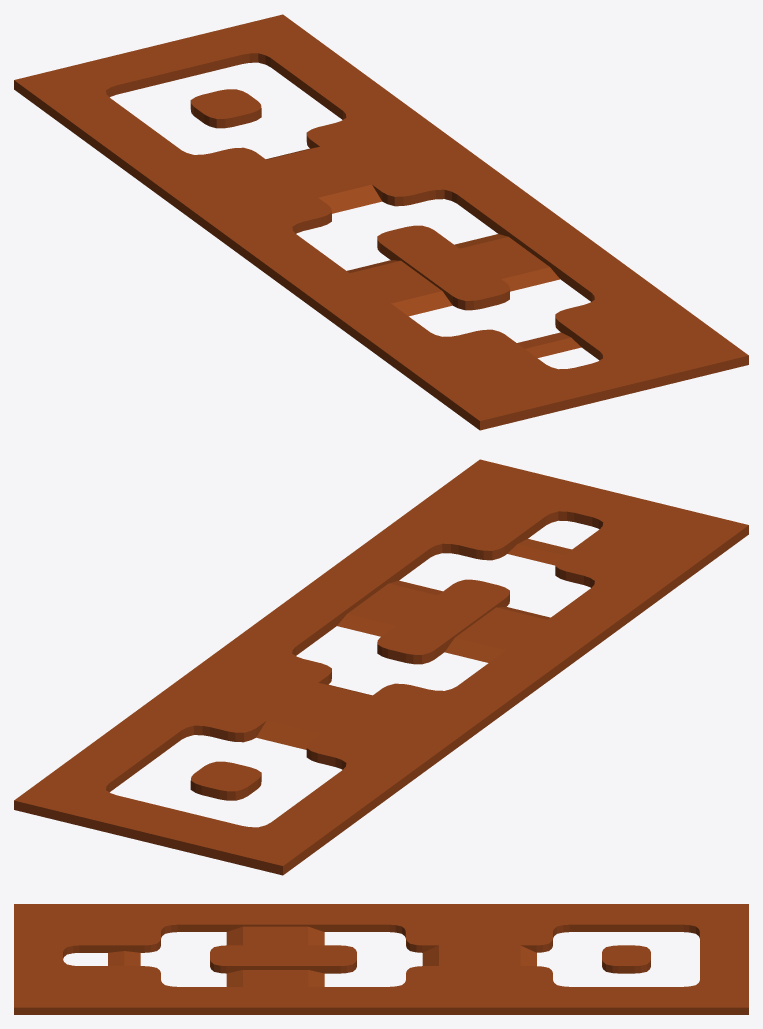
The model's file is Tutorial C Sand Area.fbx.
The picture shows the model from 3 angles, top to bottom: view 1: azimuth 30°, elevation 25°; view 2: azimuth 150°, elevation 25°; view 3: azimuth 270°, elevation 25°; orthographic projection. The views are drawn at different scales.
Parts seen in each view (by area): view 1: Flooring Type Corner Sand.002, Flooring Type Ramp Low.006; view 2: Flooring Type Corner Sand.002, Flooring Type Ramp Low.006; view 3: Flooring Type Corner Sand.002, Flooring Type Ramp Low.006.
Part boxes in pixels (left/top/right/bottom): Flooring Type Corner Sand.002: left=14, top=14, right=748, bottom=430; Flooring Type Ramp Low.006: left=266, top=147, right=581, bottom=358; Flooring Type Corner Sand.002: left=14, top=459, right=748, bottom=875; Flooring Type Ramp Low.006: left=256, top=539, right=571, bottom=749; Flooring Type Corner Sand.002: left=14, top=904, right=748, bottom=1014; Flooring Type Ramp Low.006: left=108, top=926, right=536, bottom=986.
Size of the model in its own units: 6000 by 200 by 18000.
